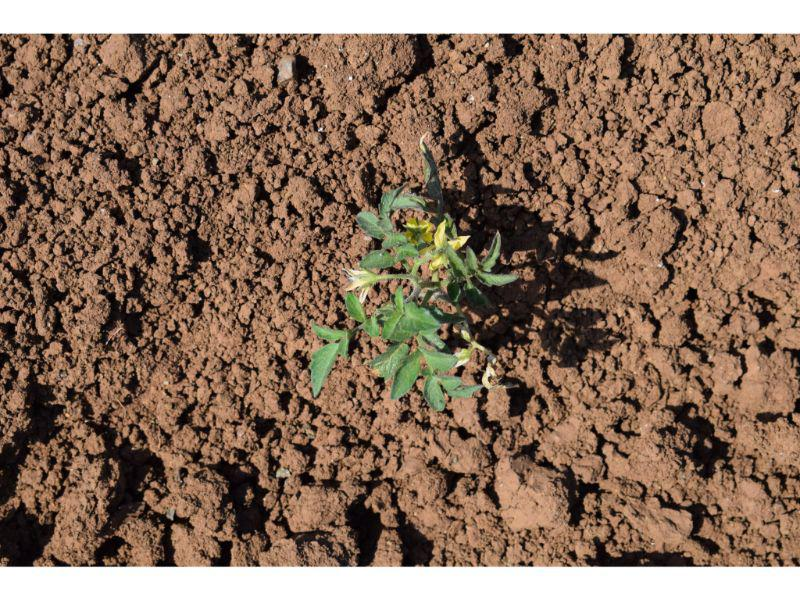tomato: (305, 139, 519, 415)
